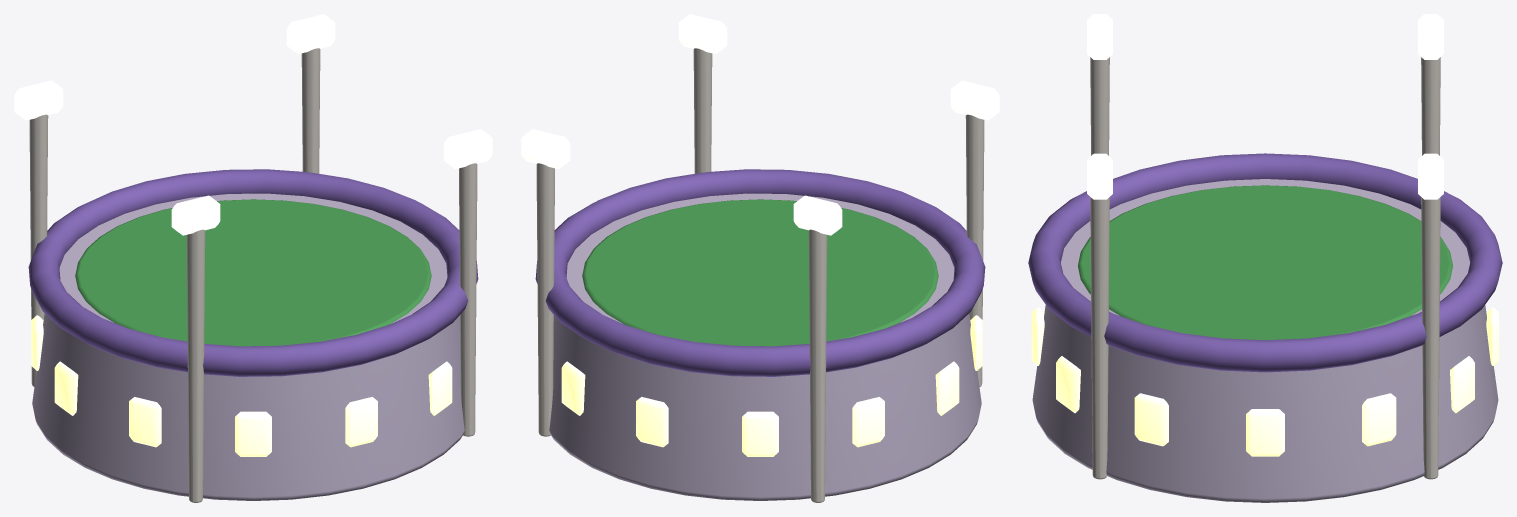
3 renders of one model, left to right at view 1: azimuth 30°, elevation 25°; view 2: azimuth 150°, elevation 25°; view 3: azimuth 270°, elevation 25°, orthographic. The views are drawn at different scales.
Parts seen in each view (by area): view 1: Cone; view 2: Cone; view 3: Cone.
Boxes of the visible parts, bbox=[...] form: Cone: bbox=[14, 14, 492, 502]; Cone: bbox=[521, 14, 999, 502]; Cone: bbox=[1028, 14, 1502, 502].
Size of the model in its own units: 0.73 by 0.535 by 0.73.
